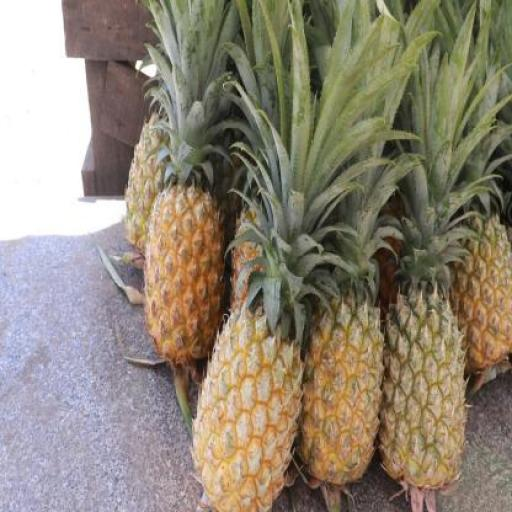------------------------------: (376, 289, 466, 495)
Pineapple - v8 v1: (197, 303, 303, 511), (298, 297, 380, 487), (146, 183, 220, 370), (453, 214, 512, 368)
